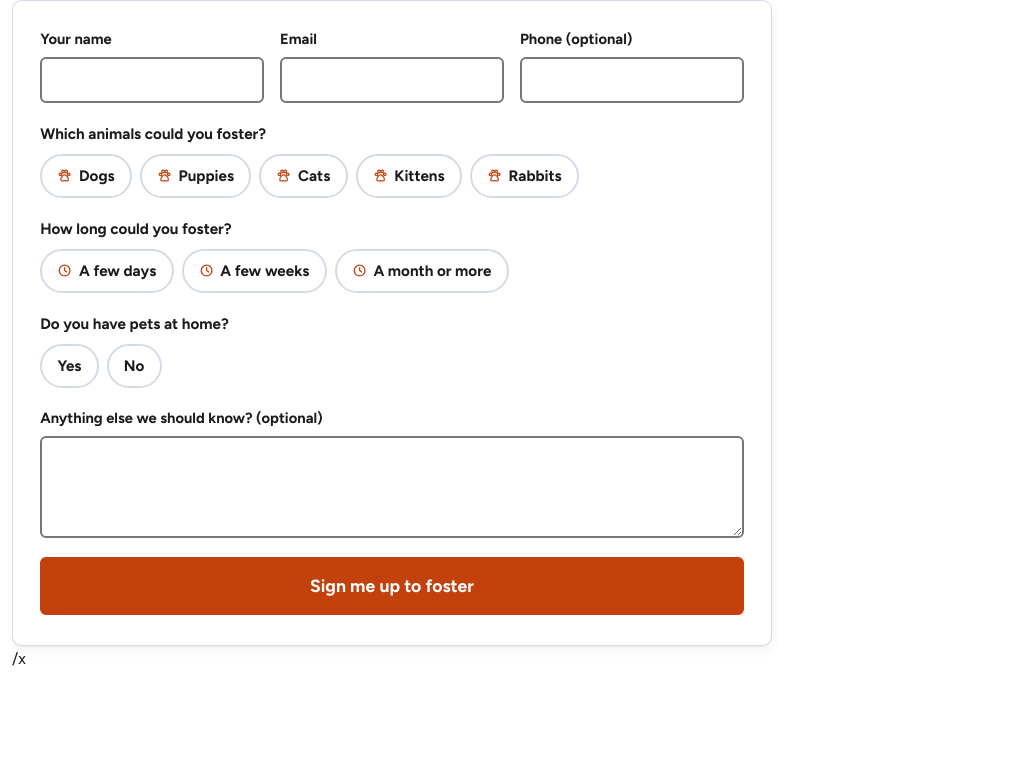
it: Sign-up forms › T-FOSTER-UI-1: the foster form sends the chosen animals and length; server errors are shown
Type "Sam" into the field labelled "Your name". click: [152, 80]
box: [40,57,264,103]
Type "sam@example.com" into the field labelled "Email". click: [392, 80]
box: [280,57,504,103]
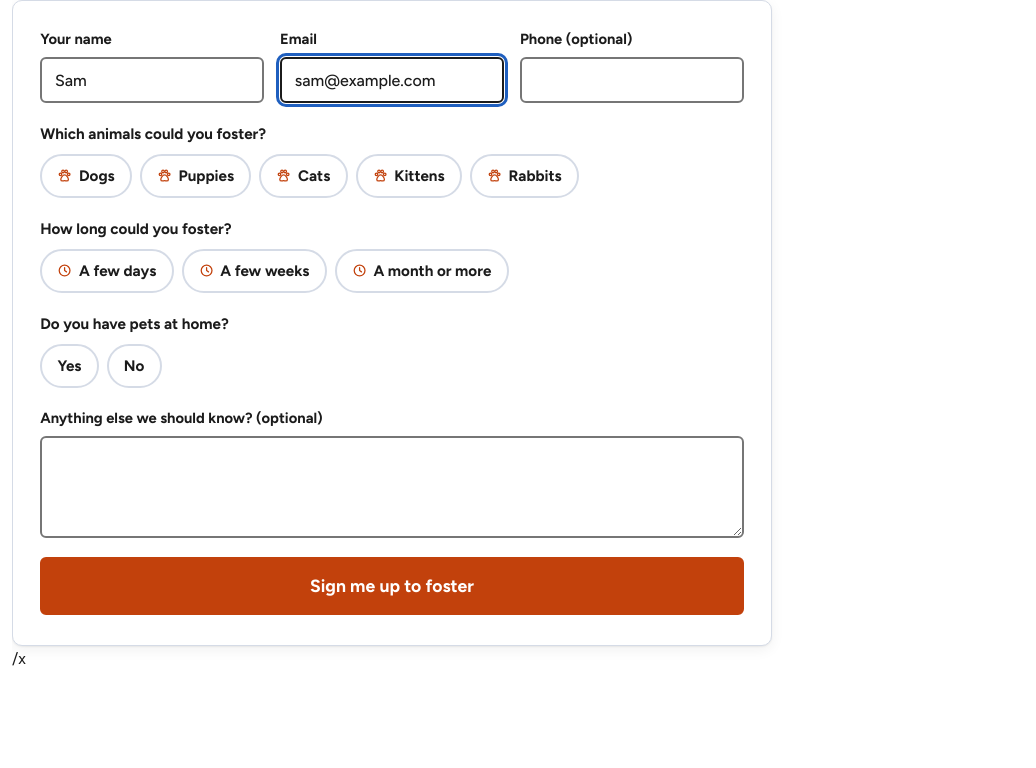
Click the checkbox labelled "Kittens". click: [409, 176]
box: [356,154,462,198]
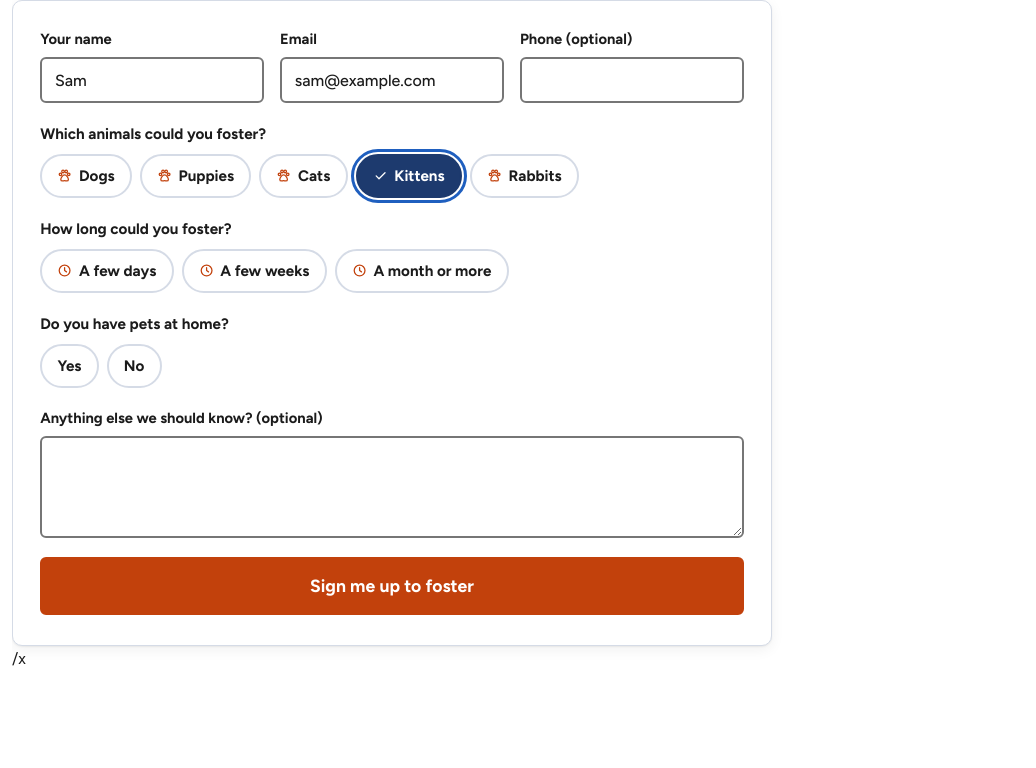
Click the radio button labelled "A few weeks". click: [254, 271]
box: [182,249,327,293]
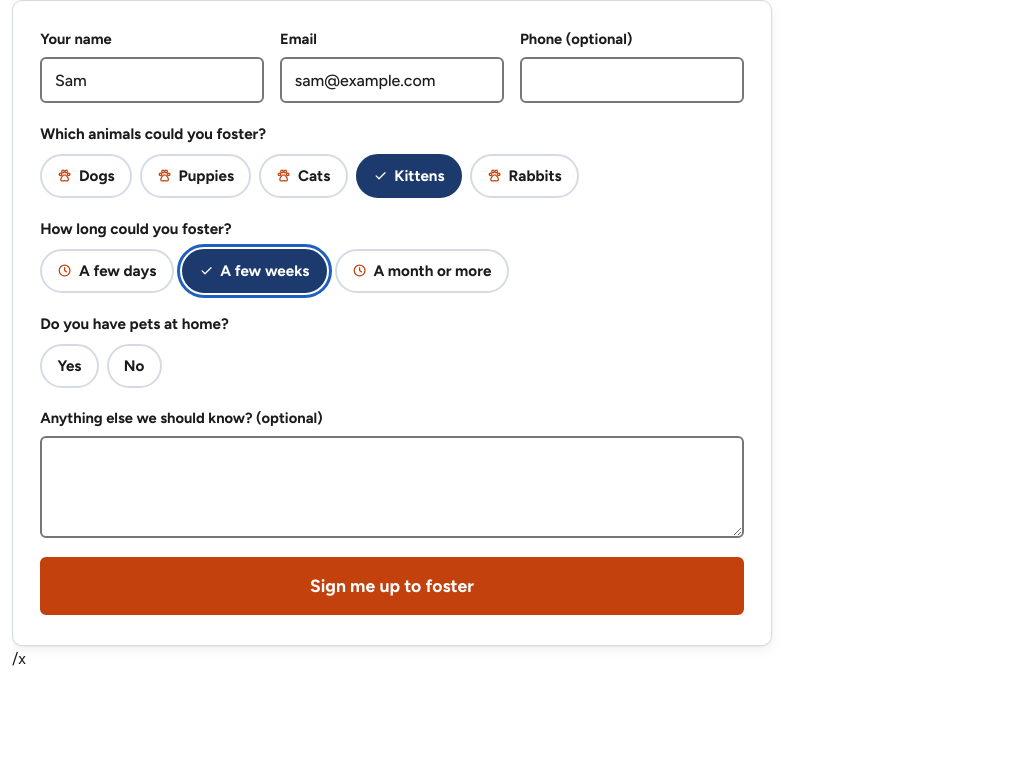
Click the radio button labelled "Yes". click: [69, 366]
box: [40,344,99,388]
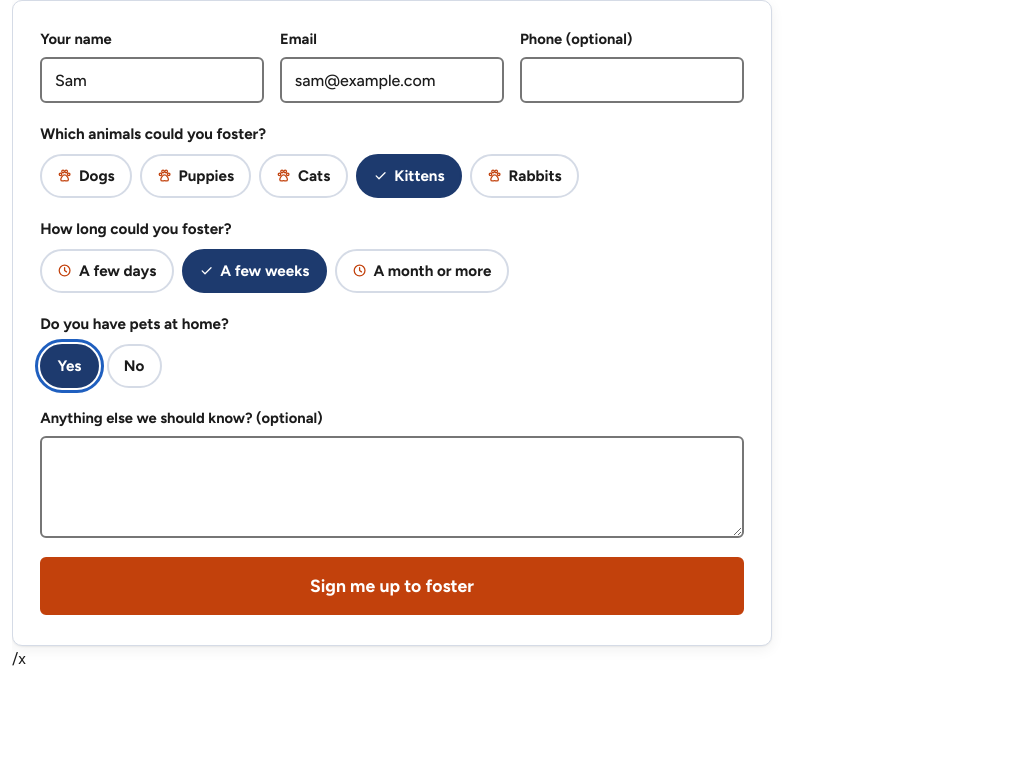
Click the button "Sign me up to foster". click: [392, 586]
box: [40,557,744,615]
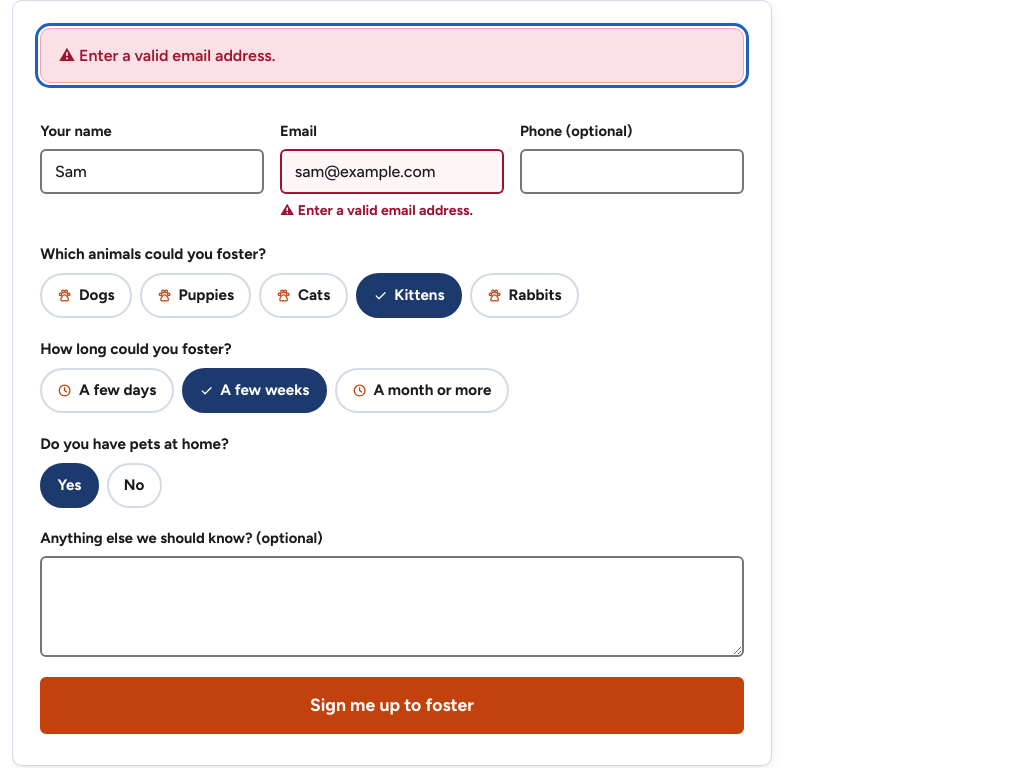
Expected: the message reads "Enter a valid email address.", [79,46,276,65]
Click the button "Sign me up to foster". click: [392, 706]
box: [40,677,744,734]
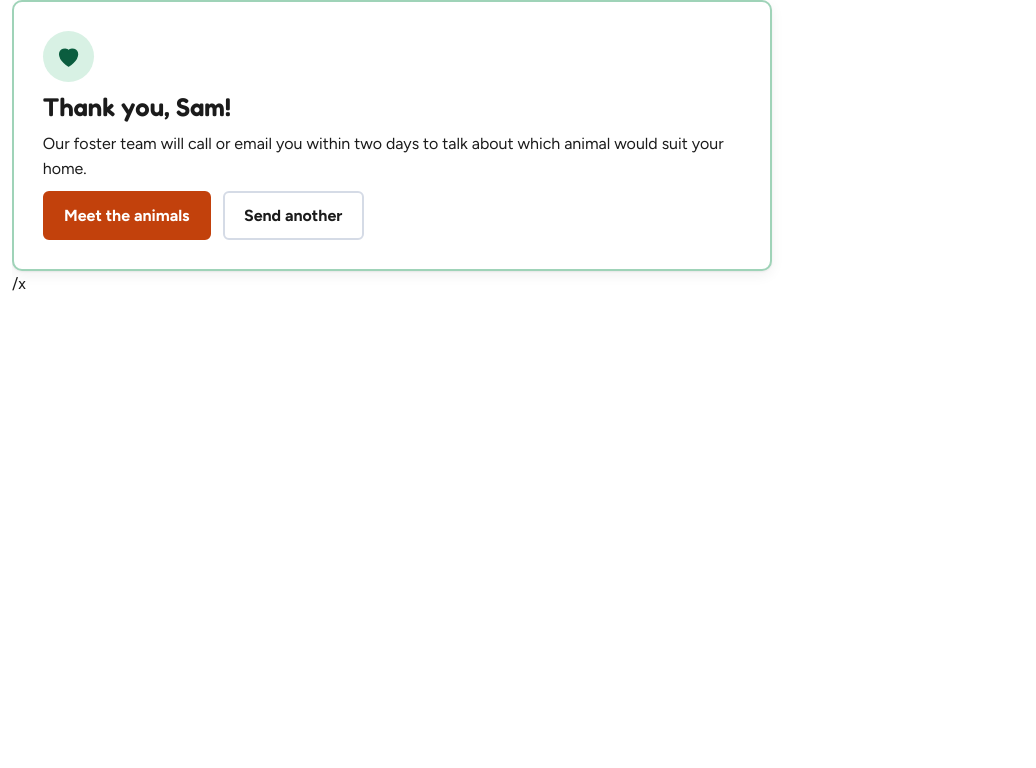
Expected: the heading "Thank you, Sam!" is shown, [43,92,231,121]
